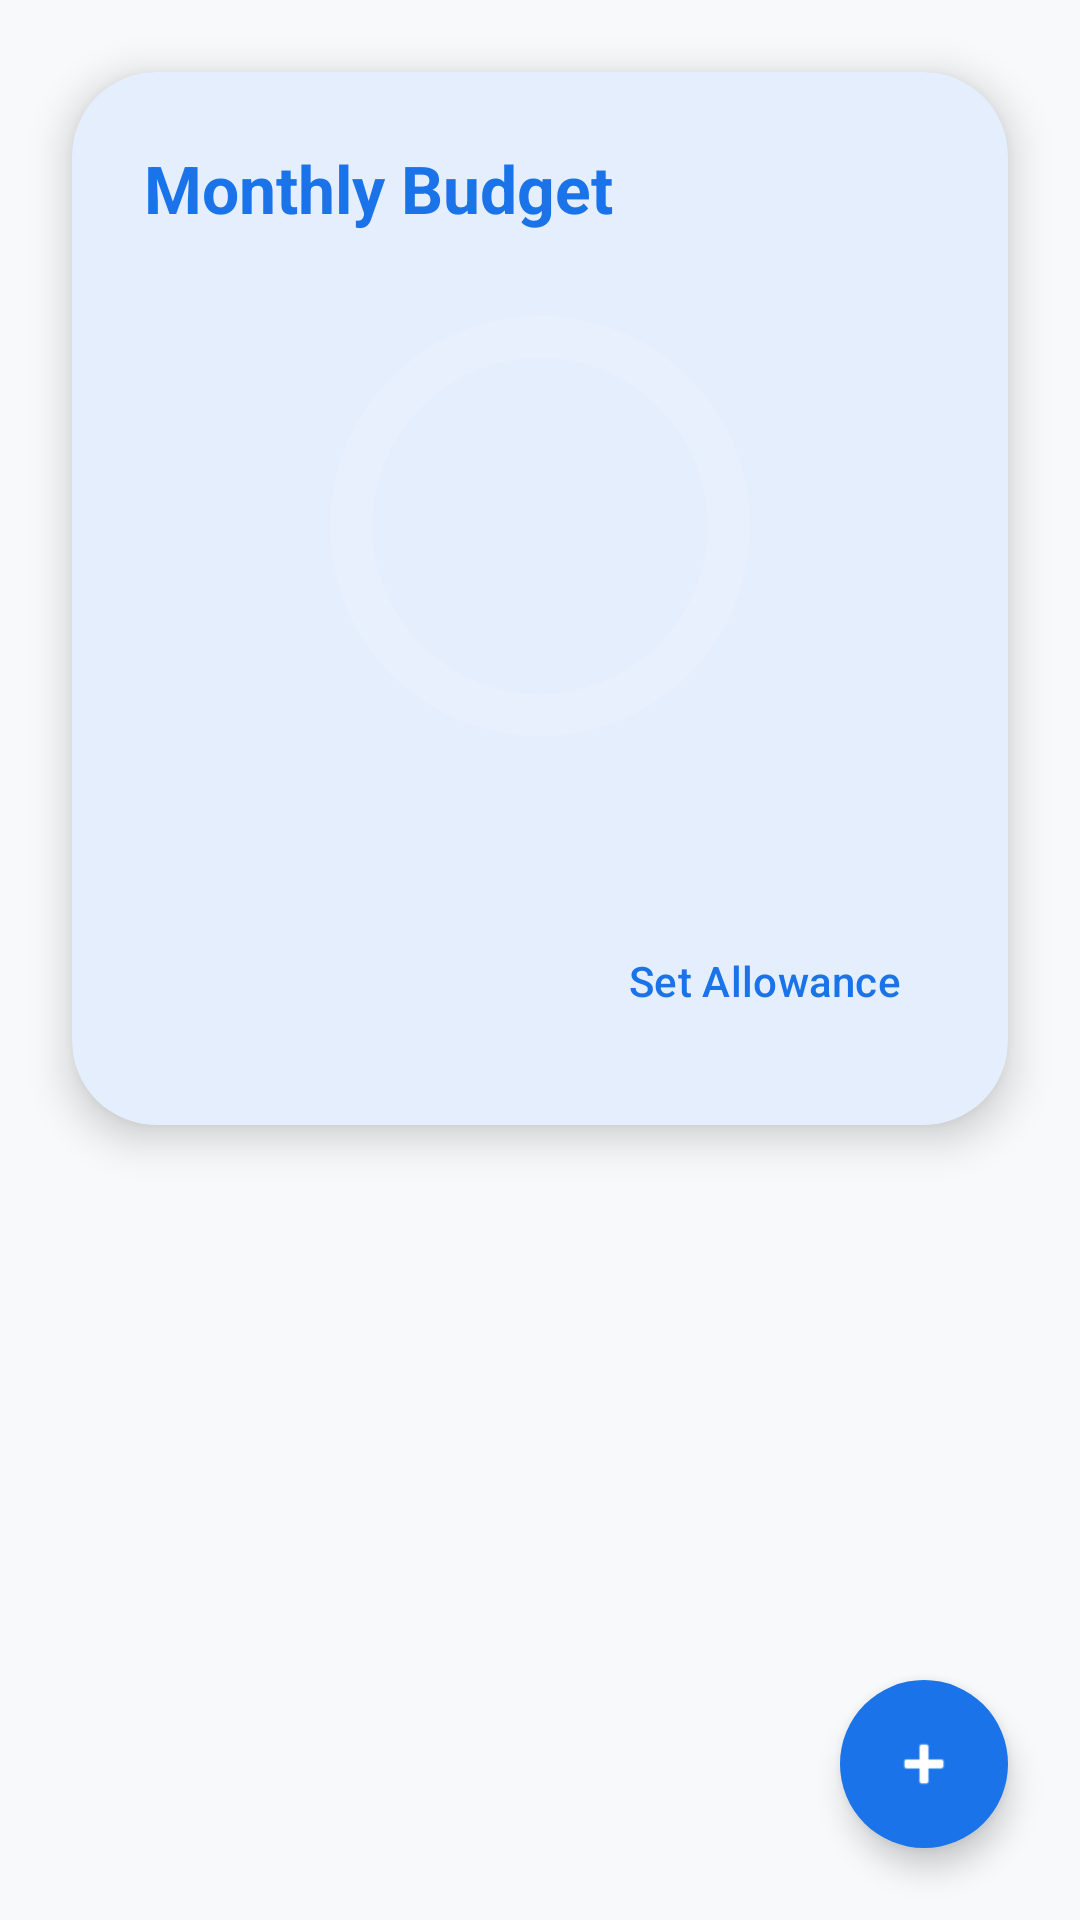

Icons on this 1080x1920 Android screen, each with its box as (x1, y1, x2, y2):
Add expense: (840, 1680, 1008, 1848)
